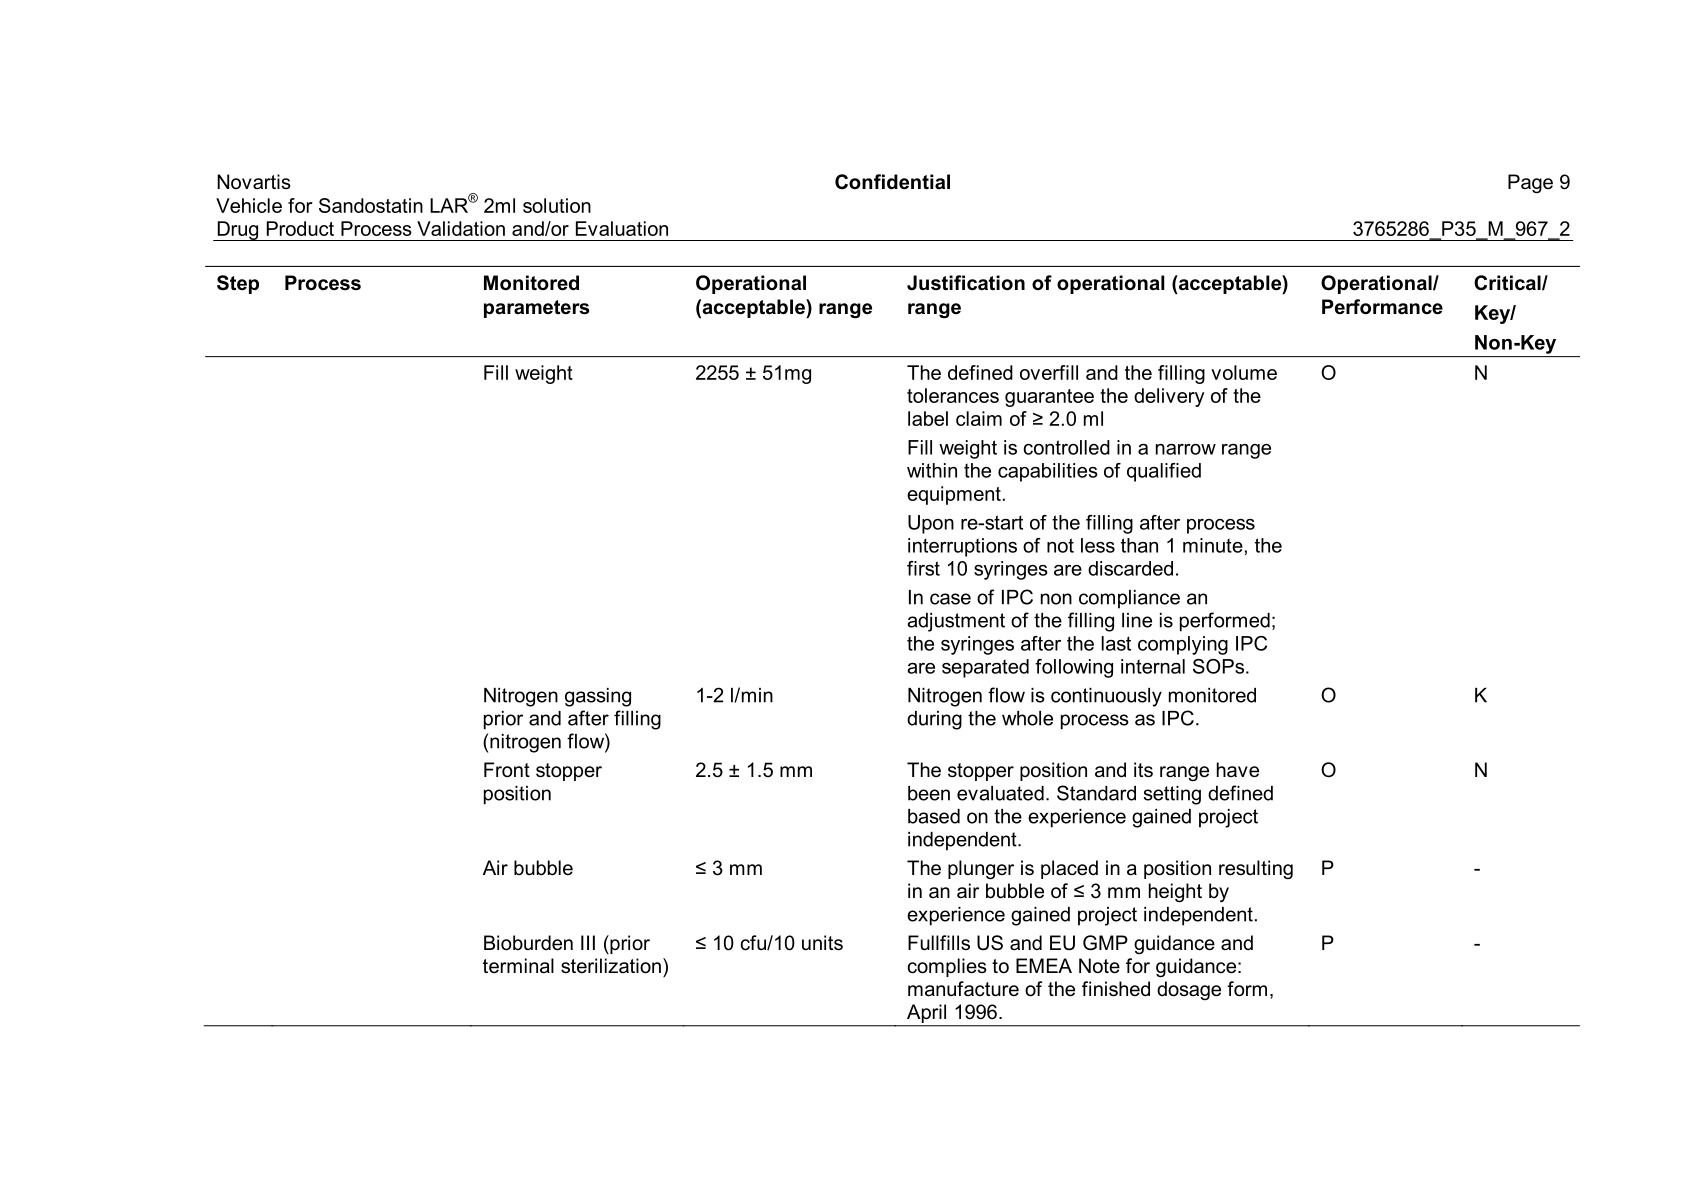partial_lined: (203, 264, 1582, 1026)
